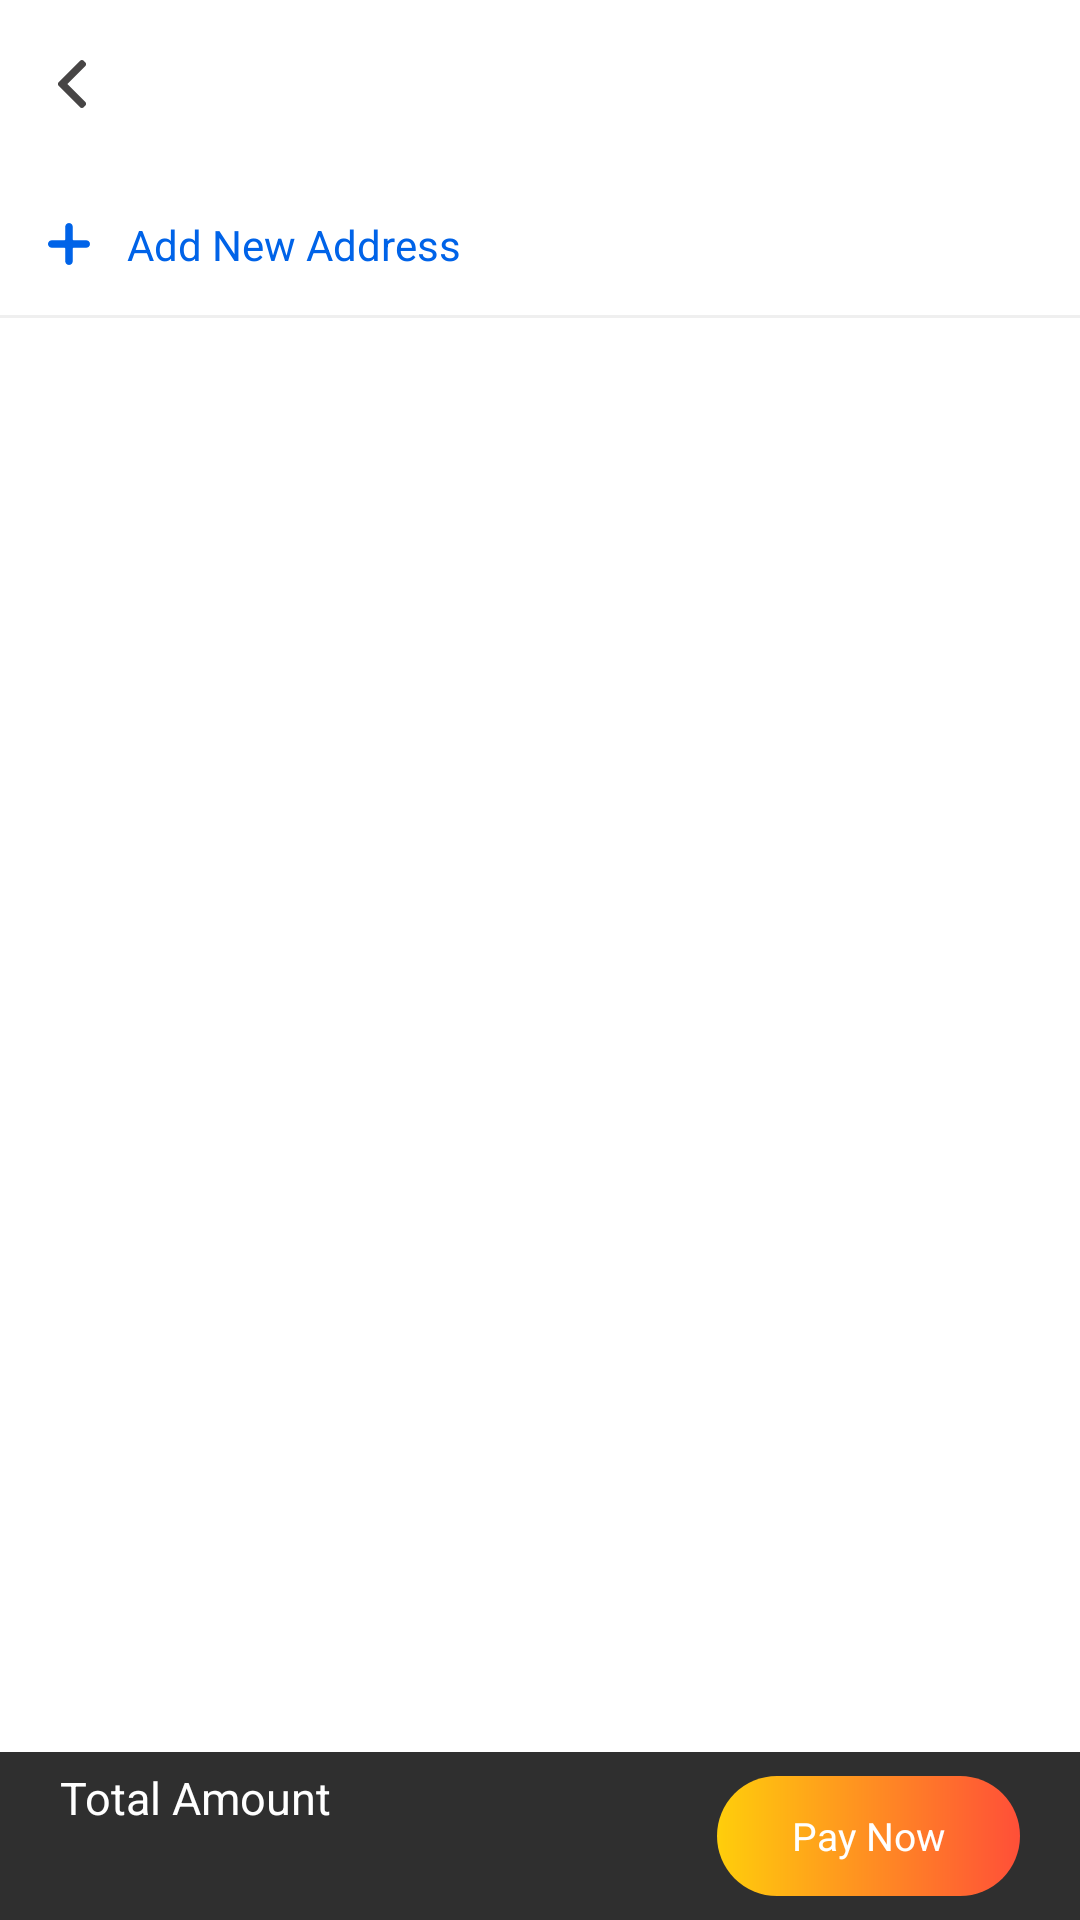

Screen size 1080 × 1920. Icon name, then its box in pixels as [x1=x1, y1=y1, x2=x2, y2=y2]:
back: [x1=58, y1=60, x2=86, y2=108]
